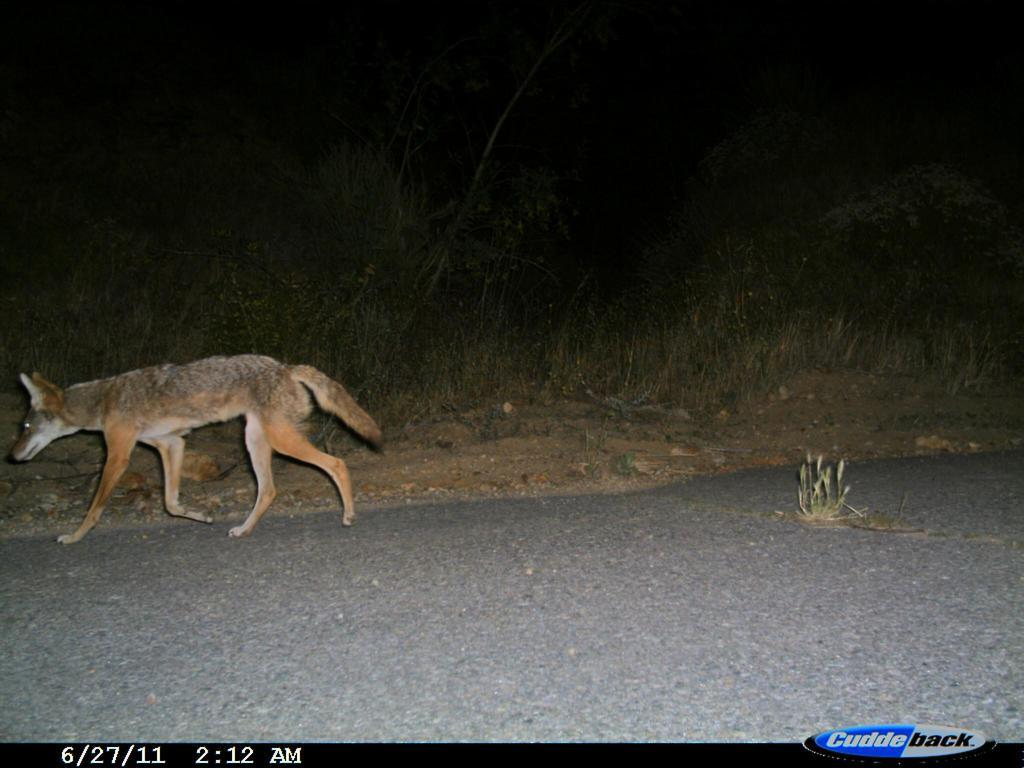coyote: (4, 346, 395, 550)
